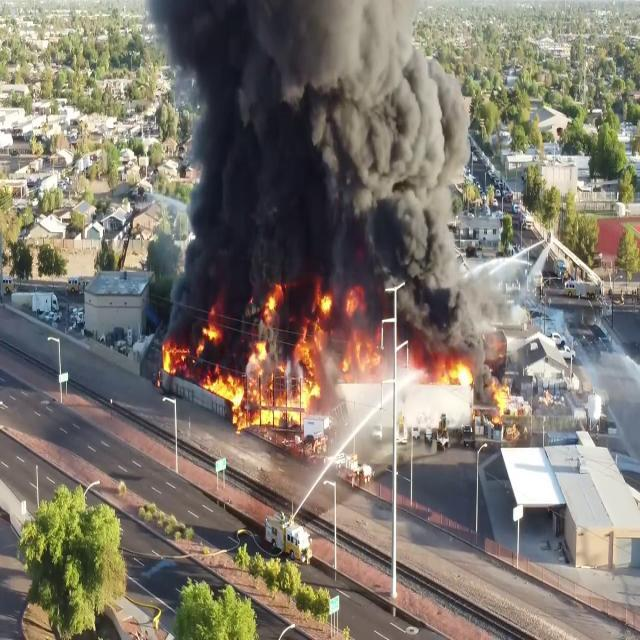Fire: (160, 289, 354, 432)
Smoke: (152, 0, 521, 356)
